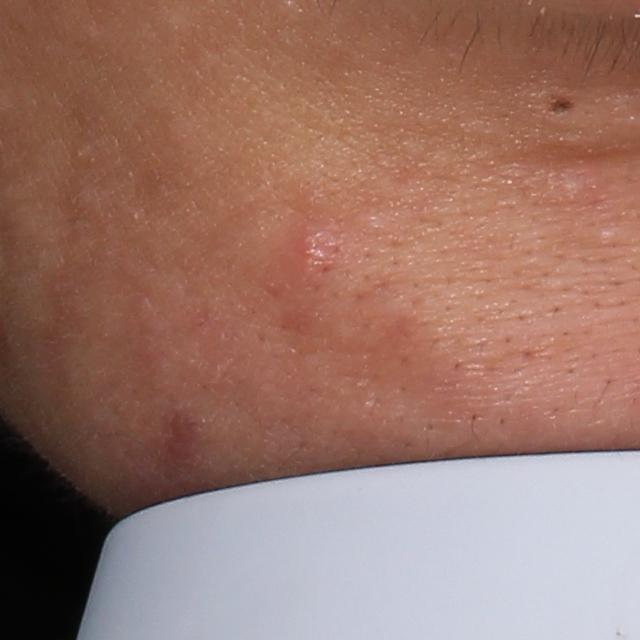nevus: (537, 91, 579, 121)
papule: (277, 220, 348, 294)
